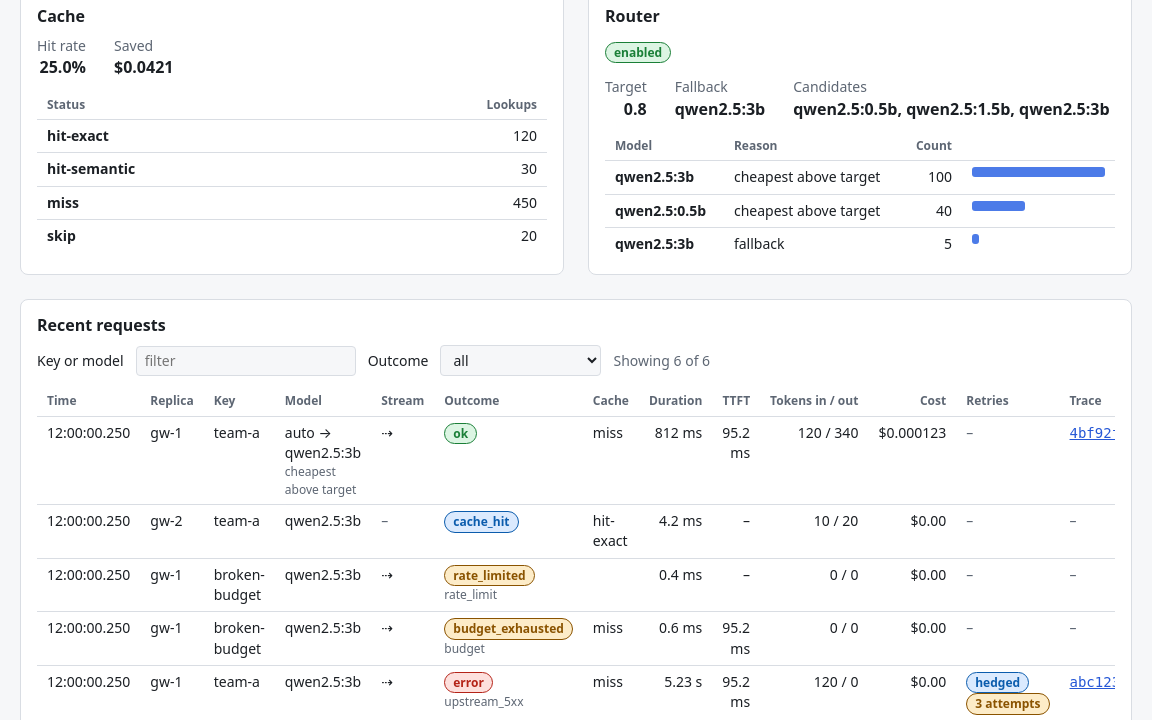
Test: recent requests › filters by outcome and by text
(page scrolled)
Select "error" in the dropdown labelled "Outcome" at (521, 361), box [440,345,602,376]
(page scrolled)
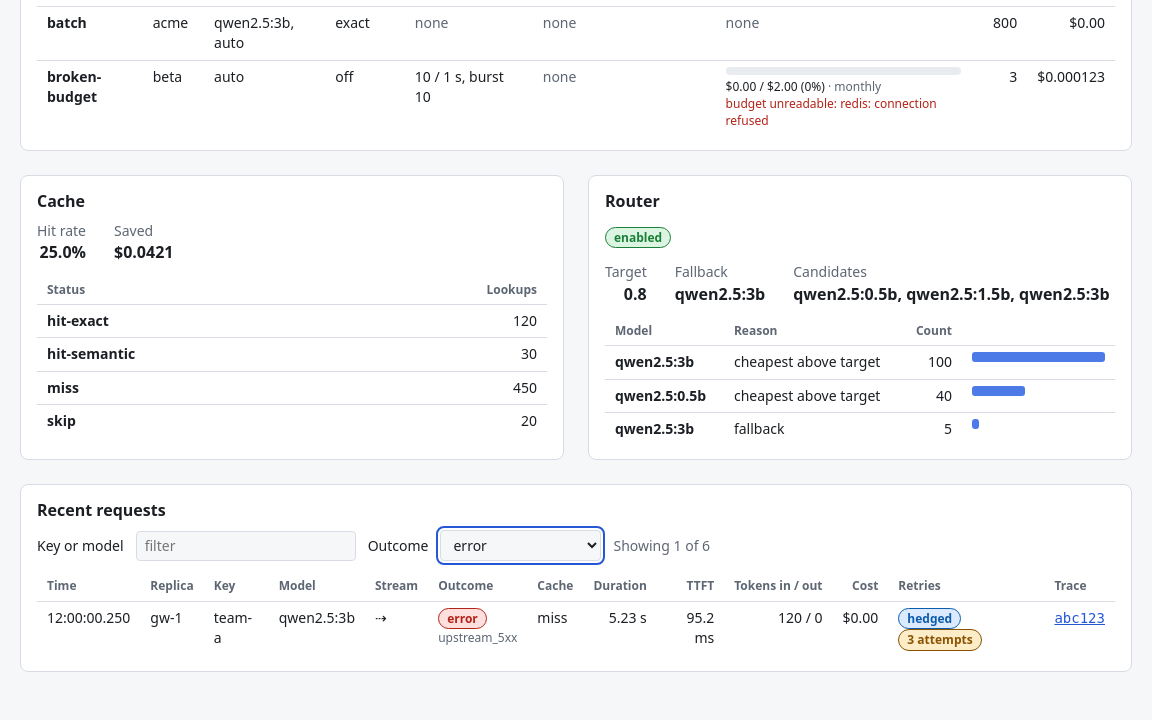
Expected: the text "Showing 1 of 6" is shown, [614,536,710,556]
Select "all" in the dropdown labelled "Outcome" at (521, 546), box [440,530,602,561]
(page scrolled)
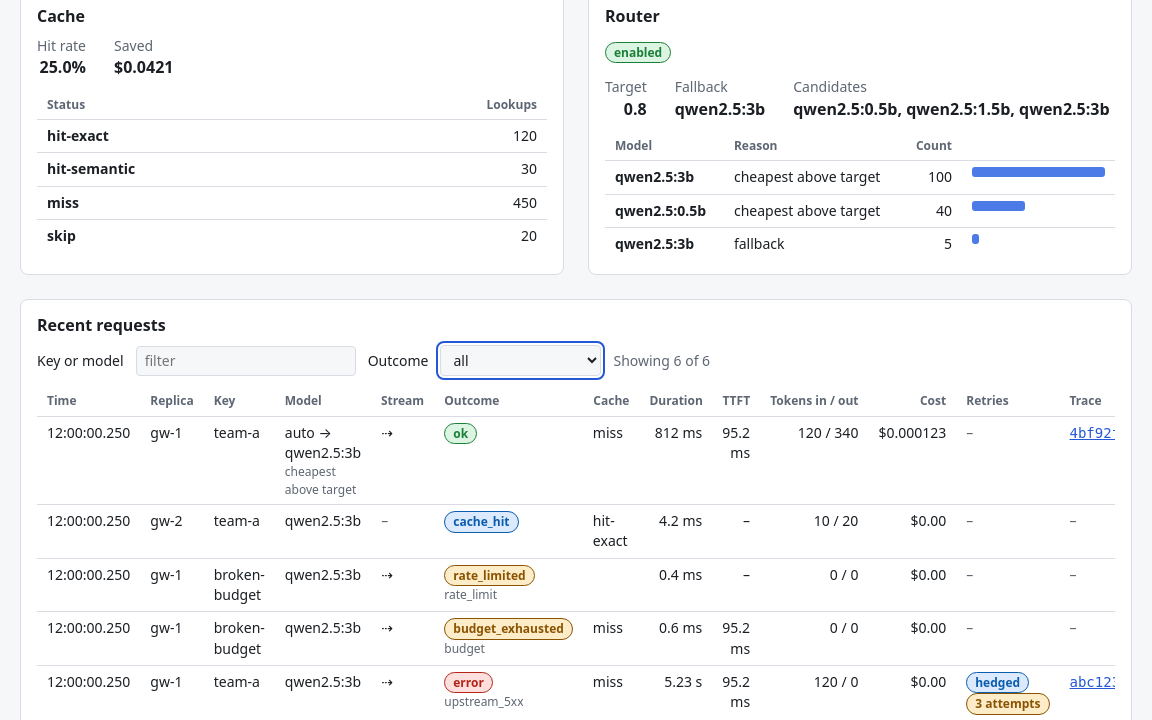
Type "BROKEN" into the search field labelled "Key or model" at (246, 361), box [136,346,356,376]
(page scrolled)
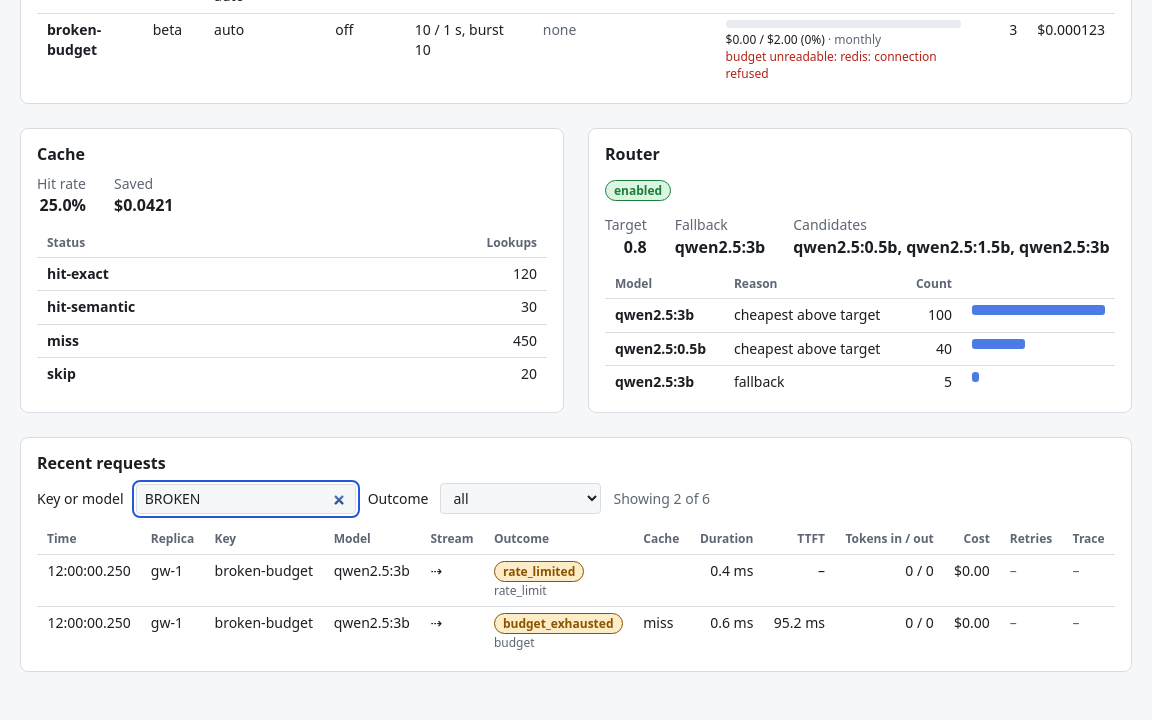
Clear the search field labelled "Key or model" at (246, 499), box [136,484,356,514]
(page scrolled)
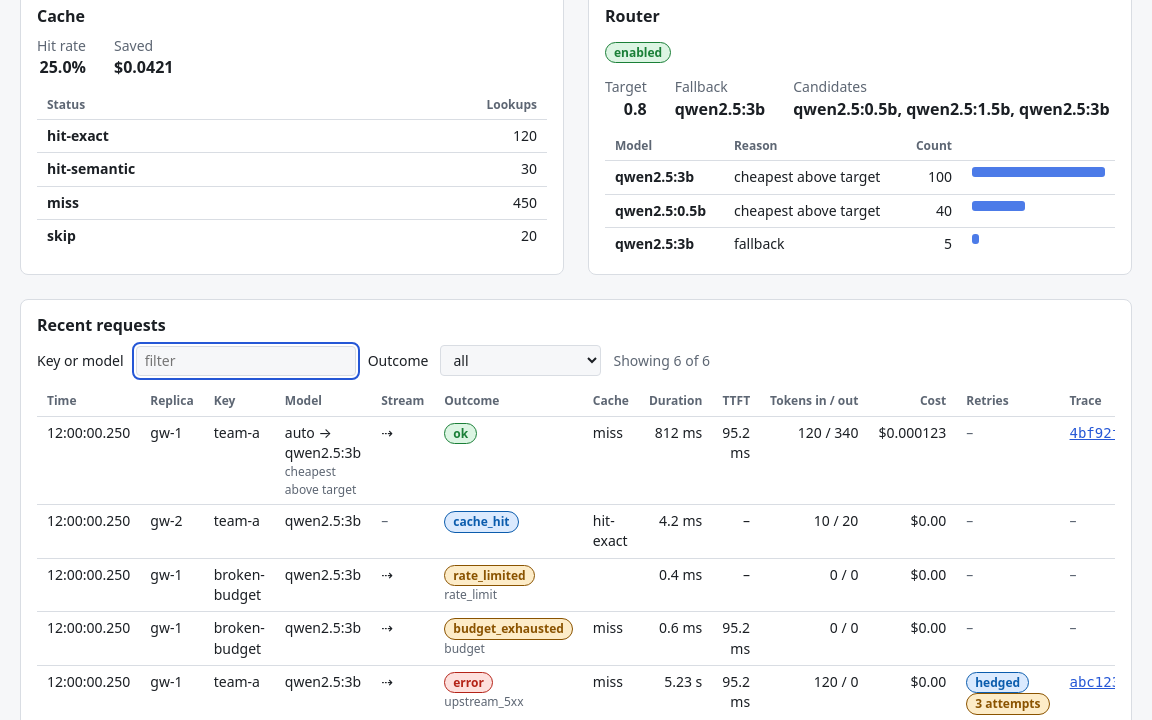
Type "nothing-matches" into the search field labelled "Key or model" at (246, 361), box [136,346,356,376]
(page scrolled)
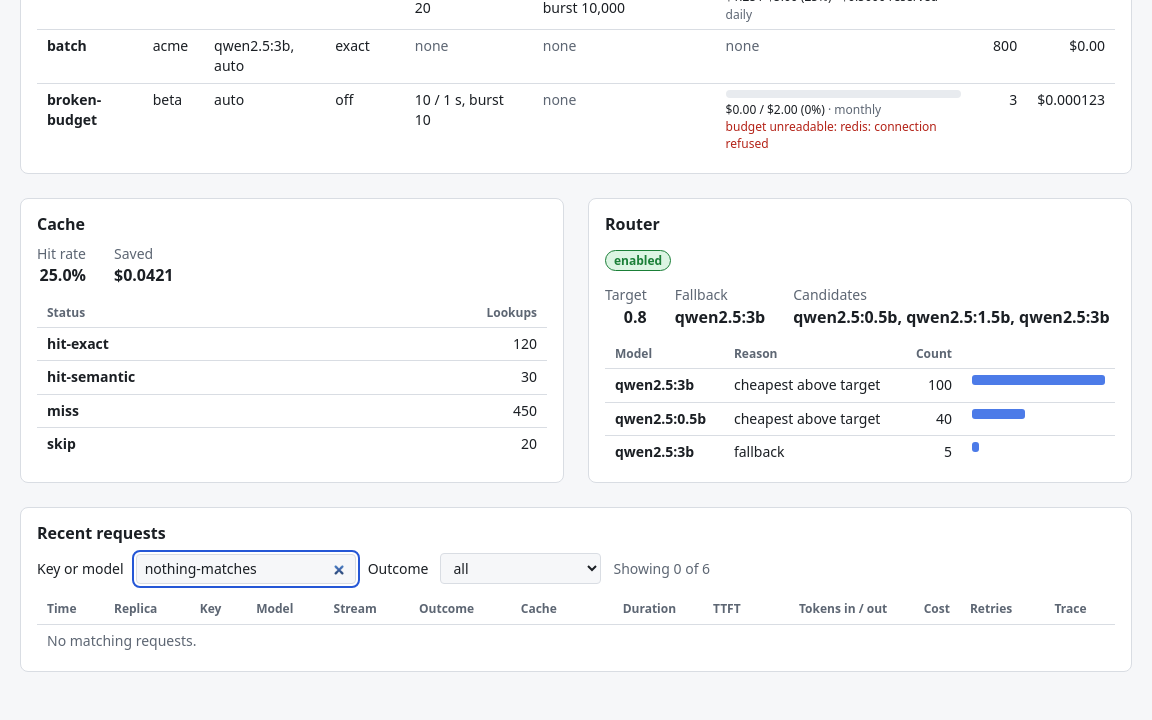
Expected: the text "No matching requests." is shown, [37,625,1115,657]
